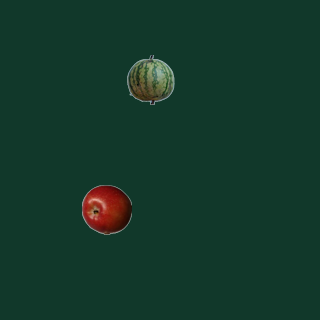Apple Braeburn: (81, 184, 131, 234)
Watermelon: (125, 54, 175, 104)
